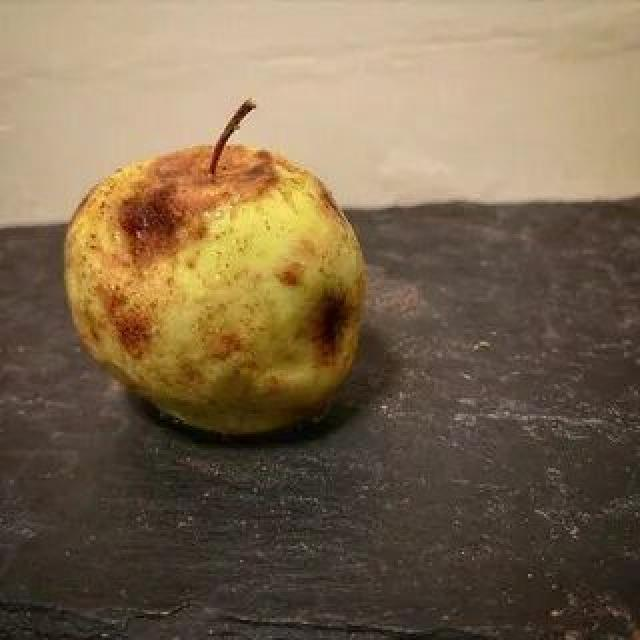Rotten: (67, 135, 365, 453)
